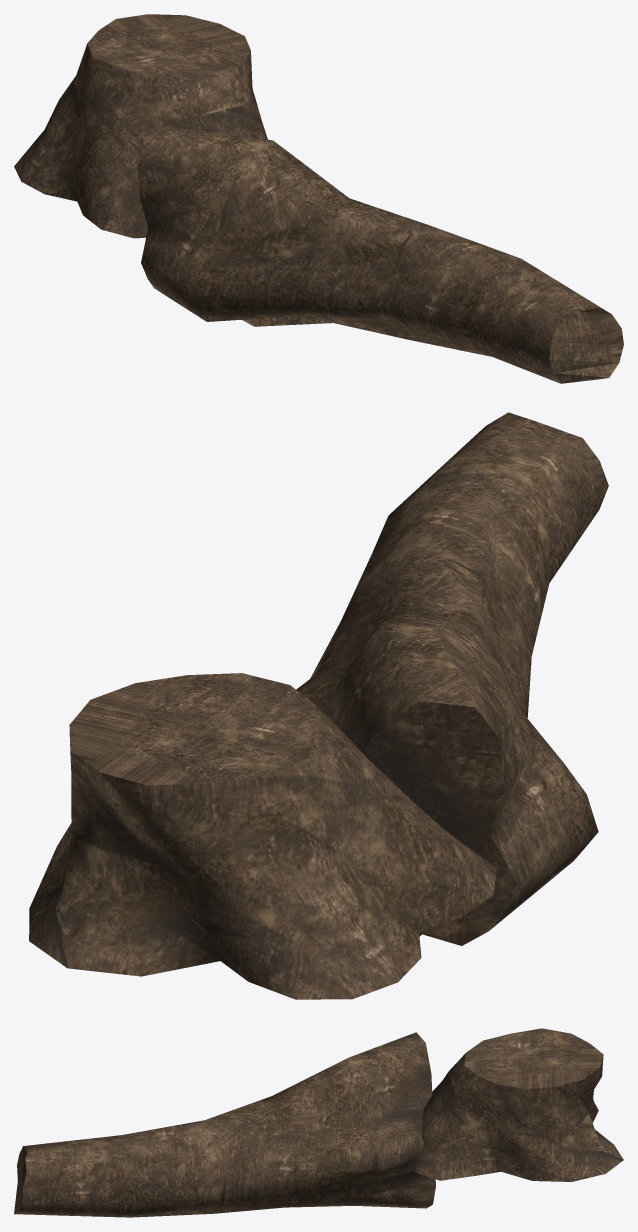
File: Arbol.obj
3 renders of one model, top to bottom at view 1: azimuth 30°, elevation 25°; view 2: azimuth 150°, elevation 25°; view 3: azimuth 270°, elevation 25°, orthographic. The views are drawn at different scales.
Visible parts, largest first — view 1: Foliage007; view 2: Foliage007; view 3: Foliage007.
Part boxes in pixels (<box>): Foliage007: <box>14,14,623,383</box>; Foliage007: <box>29,412,608,999</box>; Foliage007: <box>14,1028,623,1217</box>.
Size of the model in its own units: 43.48 by 28.57 by 101.
Materials: 1 (1 with a texture image).
